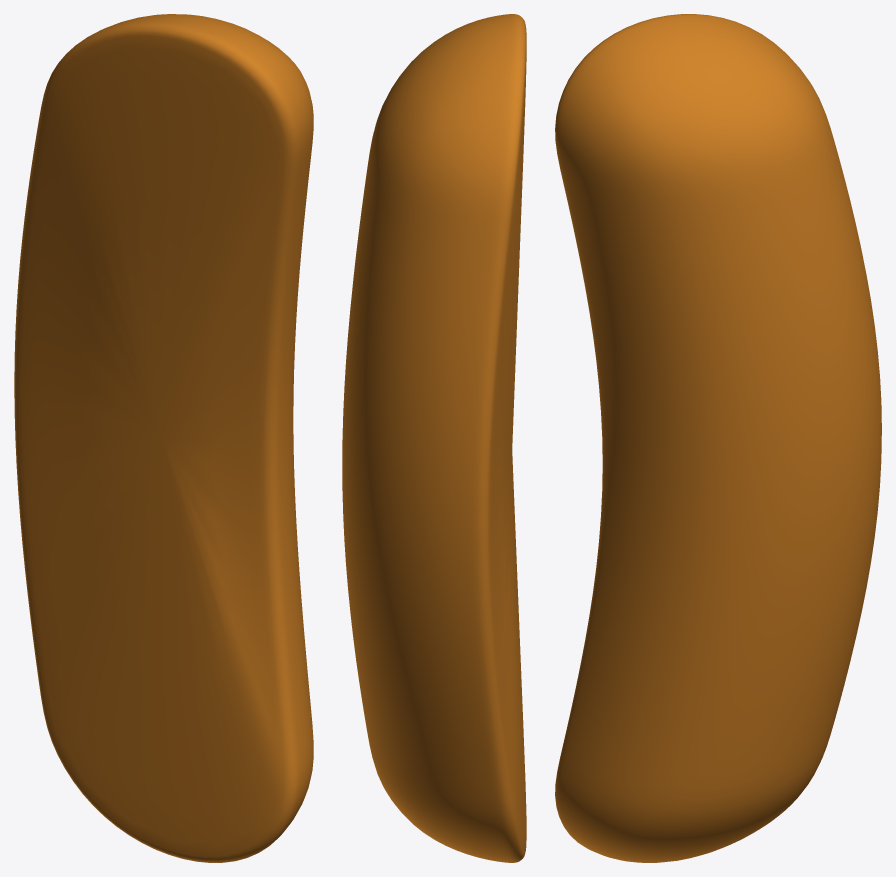
3 views of the same model, side by side, from view 1: azimuth 30°, elevation 25°; view 2: azimuth 150°, elevation 25°; view 3: azimuth 270°, elevation 25° (orthographic).
Bounding box in the file's own units: 0.2184 × 0.8972 × 0.3196.
